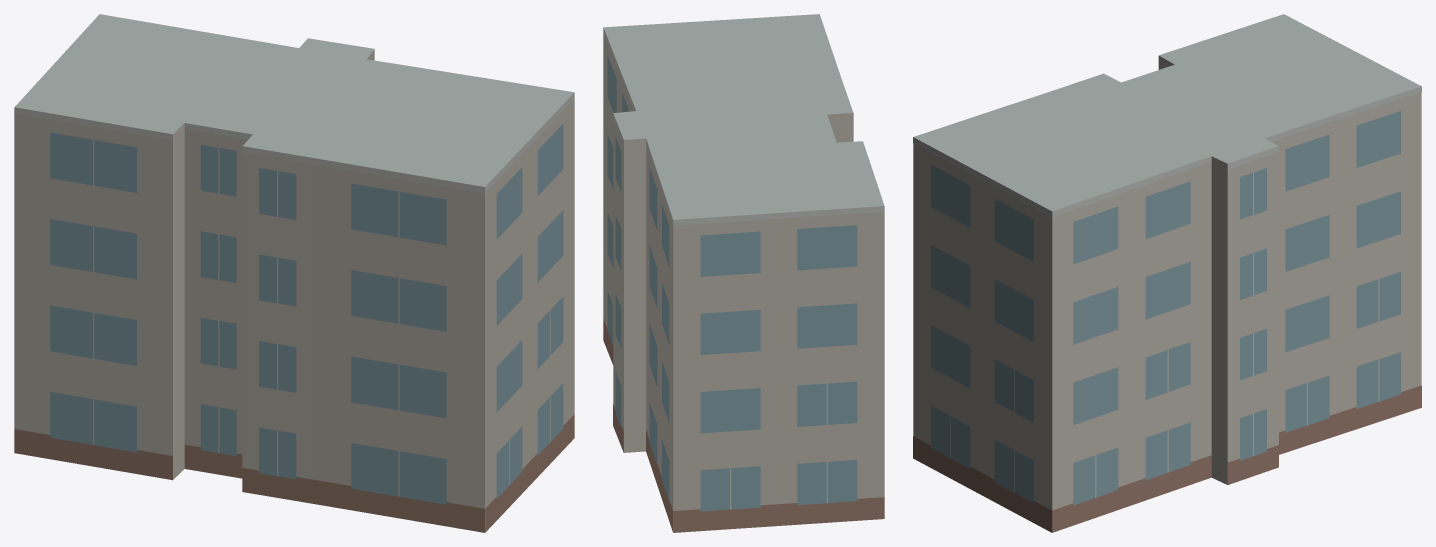
The model's file is survey-upis-32768557.glb.
3 views of the same model, side by side, from view 1: azimuth 30°, elevation 25°; view 2: azimuth 150°, elevation 25°; view 3: azimuth 270°, elevation 25° (orthographic). The views are drawn at different scales.
Visible parts, largest first — view 1: survey-upis-32768557.tmp; view 2: survey-upis-32768557.tmp; view 3: survey-upis-32768557.tmp.
Part boxes in pixels (bbox=[...]): survey-upis-32768557.tmp: bbox=[14, 14, 574, 532]; survey-upis-32768557.tmp: bbox=[603, 14, 884, 532]; survey-upis-32768557.tmp: bbox=[913, 14, 1421, 532].
Size of the model in its own units: 17.53 by 13.3 by 19.08.
